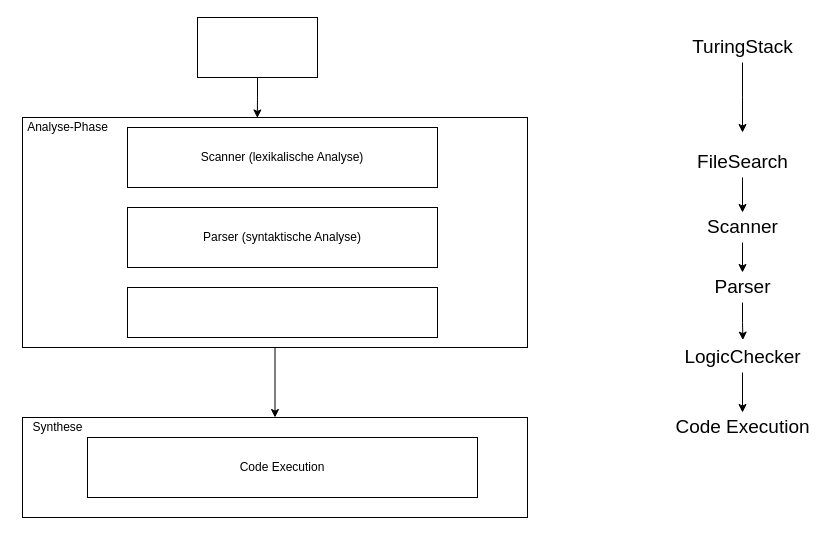
The diagram is 834 pixels wide and 535 high, and some of its shapes have lost their labels. The shapes that lost their labels are listed below. From the top down, each one's centre as x and y in pixels, then its label:
At (257,47): "Programmtext".
At (282,312): "LogicChecker (semantische Analyse)".
